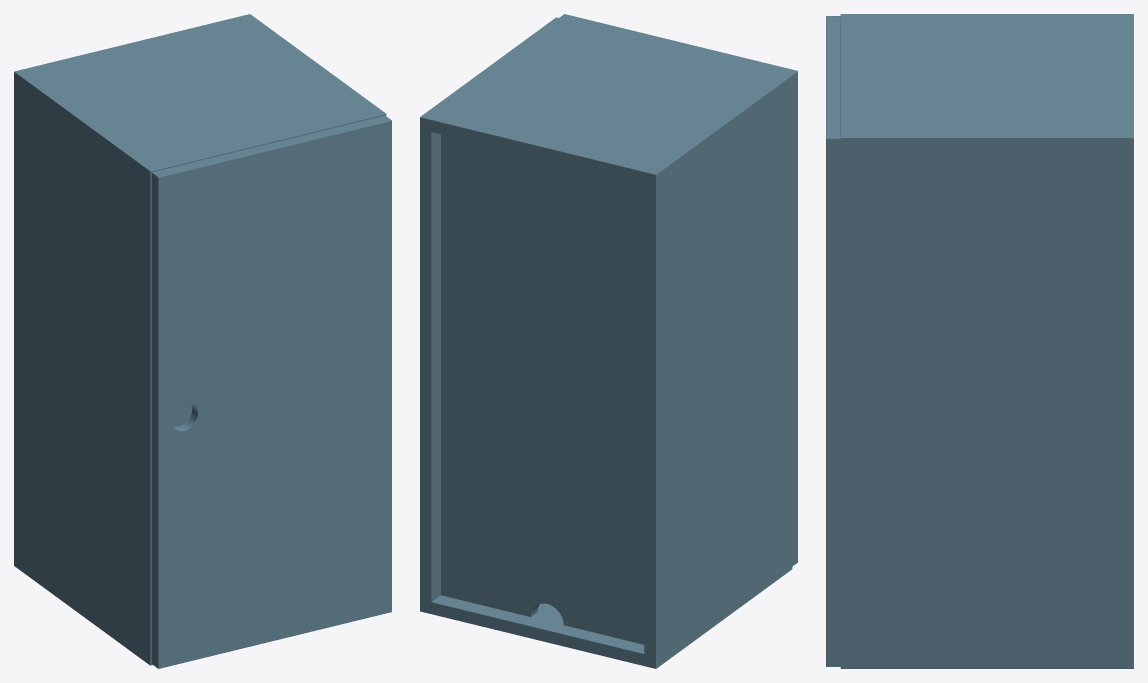
The model's file is MOD-1X2-D-B-IZQ-AP-AC.glb.
3 renders of one model, left to right at view 1: azimuth 30°, elevation 25°; view 2: azimuth 150°, elevation 25°; view 3: azimuth 270°, elevation 25°, orthographic. The views are drawn at different scales.
Size of the model in its own units: 360 by 720 by 378.
